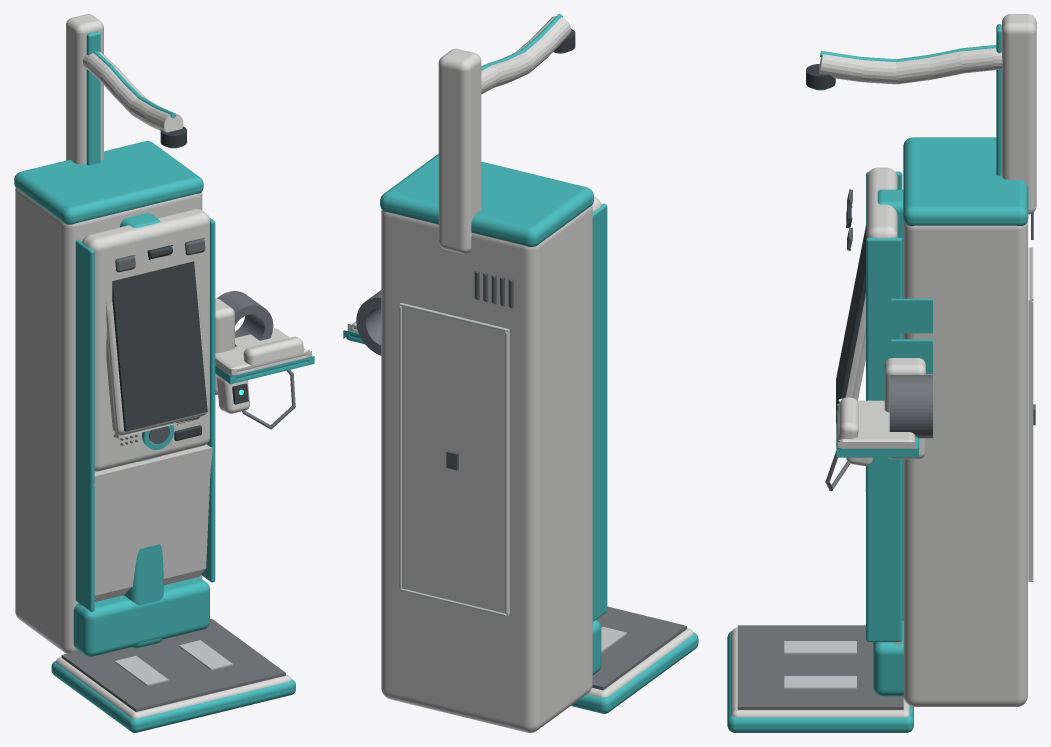
Rendered from KCH_Kiosk_True3D_V3.glb.
3 views of the same model, side by side, from view 1: azimuth 30°, elevation 25°; view 2: azimuth 150°, elevation 25°; view 3: azimuth 270°, elevation 25° (orthographic). The views are drawn at different scales.
Parts seen in each view (by area): view 1: Rear_Cabinet, Front_Lower_Sculpted_Shell, Screen_Black_Bezel, Front_Upper_Shell, Rear_Top_Cap, Platform_AntiSlip, Front_Teal_Left_Reveal, Teal_Base_Bridge, Height_Mast, Platform_Base, Front_Teal_Right_Reveal, Teal_Spine (+11 smaller); view 2: Rear_Cabinet, Rear_Service_Panel, Rear_Top_Cap, Height_Mast, Front_Teal_Left_Reveal, Platform_AntiSlip, Platform_Base, BP_Cuff, Platform_White_Rim, Service_Left, Service_Right; view 3: Rear_Cabinet, Front_Teal_Right_Reveal, Platform_AntiSlip, Rear_Top_Cap, Height_Mast, Platform_Base, BP_Cuff, BP_Shelf_White, Platform_White_Rim, Screen_Black_Bezel, Front_Upper_Shell, Teal_Base_Bridge (+18 smaller).
Boxes of the visible parts, left/top/right/bottom form: Rear_Cabinet: left=15, top=188, right=202, bottom=653; Front_Lower_Sculpted_Shell: left=78, top=444, right=212, bottom=605; Screen_Black_Bezel: left=112, top=261, right=207, bottom=431; Front_Upper_Shell: left=82, top=209, right=210, bottom=471; Rear_Top_Cap: left=14, top=141, right=203, bottom=224; Platform_AntiSlip: left=61, top=618, right=285, bottom=711; Front_Teal_Left_Reveal: left=75, top=239, right=94, bottom=611; Teal_Base_Bridge: left=73, top=577, right=209, bottom=656; Height_Mast: left=66, top=14, right=103, bottom=164; Platform_Base: left=51, top=661, right=295, bottom=732; Front_Teal_Right_Reveal: left=201, top=218, right=215, bottom=582; Teal_Spine: left=120, top=213, right=163, bottom=648; Rear_Cabinet: left=381, top=205, right=592, bottom=732; Rear_Service_Panel: left=399, top=303, right=509, bottom=615; Rear_Top_Cap: left=380, top=154, right=593, bottom=247; Height_Mast: left=438, top=48, right=481, bottom=253; Front_Teal_Left_Reveal: left=592, top=203, right=607, bottom=621; Platform_AntiSlip: left=592, top=606, right=686, bottom=690; Platform_Base: left=571, top=632, right=698, bottom=713; BP_Cuff: left=356, top=290, right=381, bottom=355; Platform_White_Rim: left=587, top=628, right=693, bottom=697; Service_Left: left=505, top=331, right=507, bottom=613; Service_Right: left=399, top=306, right=401, bottom=588; Rear_Cabinet: left=903, top=221, right=1027, bottom=706; Front_Teal_Right_Reveal: left=866, top=237, right=902, bottom=641; Platform_AntiSlip: left=737, top=625, right=903, bottom=709; Rear_Top_Cap: left=903, top=137, right=1028, bottom=225; Height_Mast: left=1002, top=14, right=1036, bottom=214; Platform_Base: left=727, top=631, right=913, bottom=732; BP_Cuff: left=889, top=375, right=932, bottom=438; BP_Shelf_White: left=837, top=398, right=915, bottom=448; Platform_White_Rim: left=731, top=627, right=909, bottom=717; Screen_Black_Bezel: left=836, top=223, right=866, bottom=423; Front_Upper_Shell: left=866, top=167, right=897, bottom=238; Teal_Base_Bridge: left=873, top=621, right=903, bottom=696.
Bounding box in the file's own units: 0.8625 × 2.15 × 0.895.
